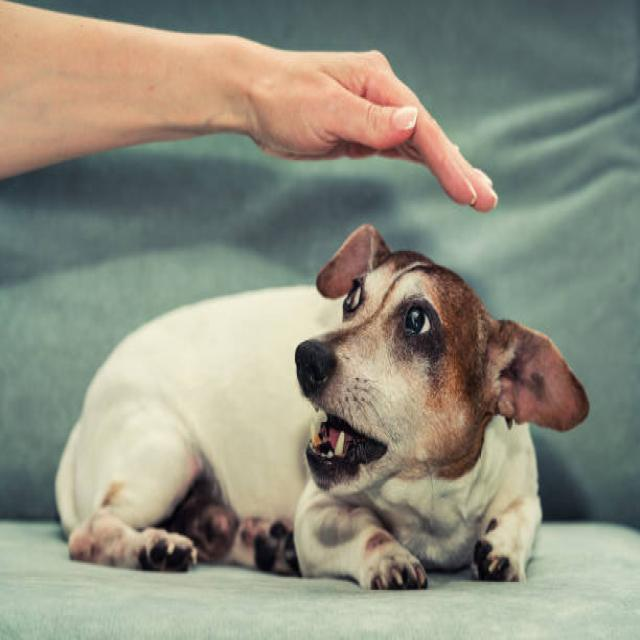normal_animals: (50, 218, 591, 593)
